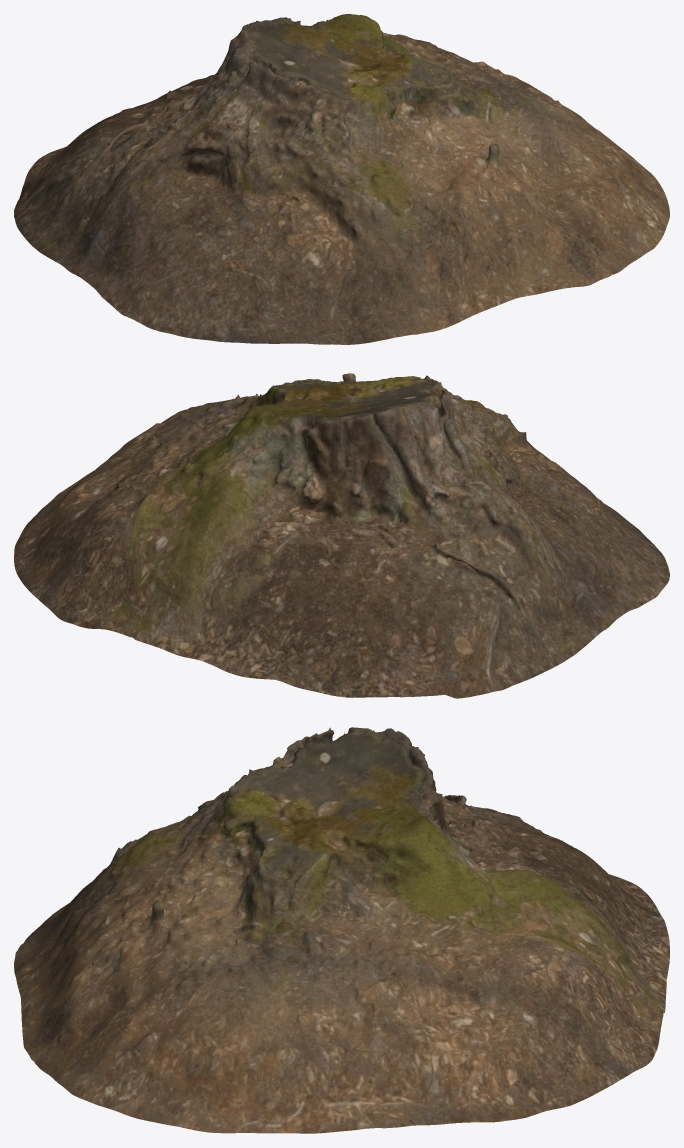
File: tree_stump_02.glb
3 renders of one model, top to bottom at view 1: azimuth 30°, elevation 25°; view 2: azimuth 150°, elevation 25°; view 3: azimuth 270°, elevation 25°, orthographic. The views are drawn at different scales.
Bounding box in the file's own units: 1.52 × 0.5221 × 1.39.
1 material, 1 textured.
